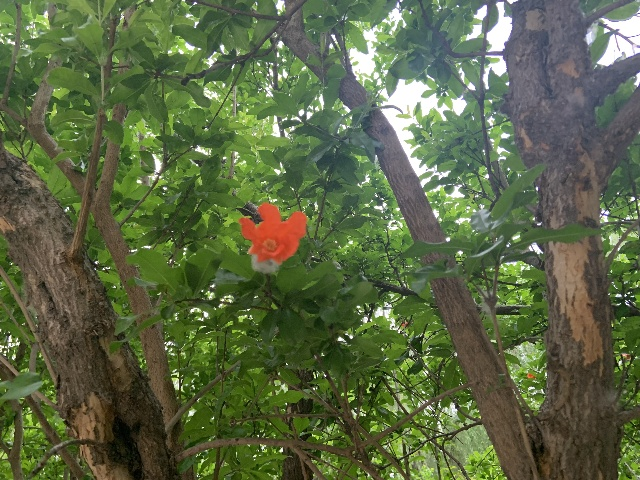flower: (237, 203, 306, 264), (526, 373, 535, 379), (400, 322, 407, 327)
